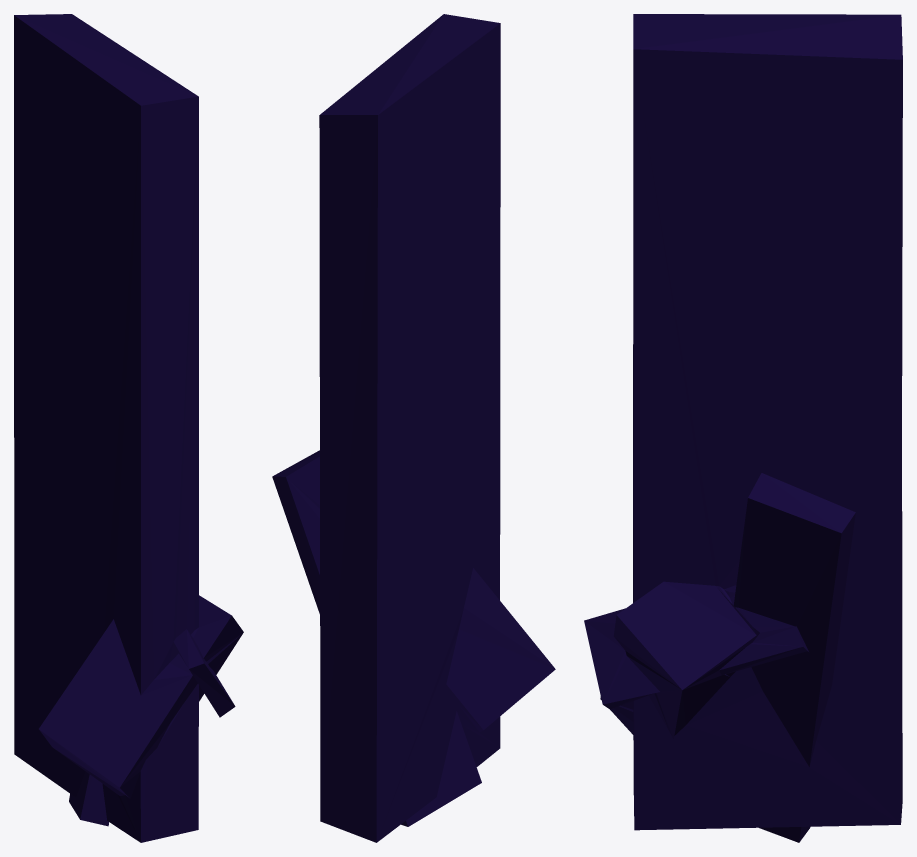
3 views of the same model, side by side, from view 1: azimuth 30°, elevation 25°; view 2: azimuth 150°, elevation 25°; view 3: azimuth 270°, elevation 25° (orthographic). The views are drawn at different scales.
Visible parts, largest first — view 1: 485_Cube.1968; view 2: 485_Cube.1968; view 3: 485_Cube.1968.
Part boxes in pixels (x1,y1,x2,y2): 485_Cube.1968: (14,14,243,842); 485_Cube.1968: (272,14,555,842); 485_Cube.1968: (584,14,902,842).
Size of the model in its own units: 3.68 by 12.56 by 4.47.
